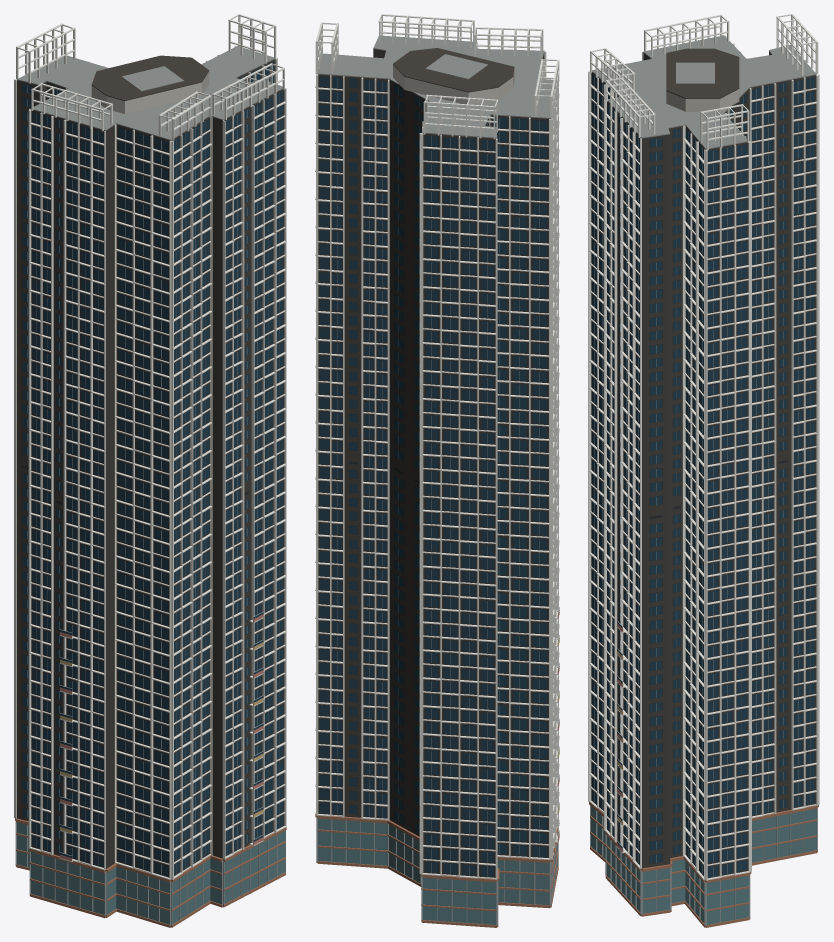
Rendered from bespoke-gratte-ciel-104.glb.
3 views of the same model, side by side, from view 1: azimuth 30°, elevation 25°; view 2: azimuth 150°, elevation 25°; view 3: azimuth 270°, elevation 25° (orthographic).
Visible parts, largest first — view 1: 104_recessed_windows_and_mullions004, 104_projecting_woven_white_frames, 104_individual_stepped_plan, 104_recessed_windows_and_mullions004_1, 104_recessed_windows_and_mullions004_2, 104_simplified_retail_and_lobby004_2, 104_open_lattice_crowns_and_roof_core004_2, 104_open_lattice_crowns_and_roof_core004_1, 104_simplified_retail_and_lobby004_1, 104_open_lattice_crowns_and_roof_core004, 104_simplified_retail_and_lobby004, 104_open_lattice_crowns_and_roof_core004_3; view 2: 104_recessed_windows_and_mullions004, 104_individual_stepped_plan, 104_projecting_woven_white_frames, 104_recessed_windows_and_mullions004_1, 104_simplified_retail_and_lobby004_2, 104_open_lattice_crowns_and_roof_core004_2, 104_recessed_windows_and_mullions004_2, 104_open_lattice_crowns_and_roof_core004_1, 104_simplified_retail_and_lobby004_1, 104_open_lattice_crowns_and_roof_core004, 104_simplified_retail_and_lobby004, 104_open_lattice_crowns_and_roof_core004_3; view 3: 104_recessed_windows_and_mullions004, 104_projecting_woven_white_frames, 104_individual_stepped_plan, 104_recessed_windows_and_mullions004_1, 104_recessed_windows_and_mullions004_2, 104_simplified_retail_and_lobby004_2, 104_open_lattice_crowns_and_roof_core004_2, 104_open_lattice_crowns_and_roof_core004_1, 104_simplified_retail_and_lobby004_1, 104_open_lattice_crowns_and_roof_core004, 104_simplified_retail_and_lobby004, 104_open_lattice_crowns_and_roof_core004_3.
Part boxes in pixels (bbox=[...]): 104_recessed_windows_and_mullions004: bbox=[23, 62, 283, 876]; 104_projecting_woven_white_frames: bbox=[14, 46, 286, 879]; 104_individual_stepped_plan: bbox=[17, 59, 284, 877]; 104_recessed_windows_and_mullions004_1: bbox=[22, 61, 283, 876]; 104_recessed_windows_and_mullions004_2: bbox=[27, 67, 279, 874]; 104_simplified_retail_and_lobby004_2: bbox=[17, 822, 284, 924]; 104_open_lattice_crowns_and_roof_core004_2: bbox=[17, 46, 282, 140]; 104_open_lattice_crowns_and_roof_core004_1: bbox=[16, 14, 284, 140]; 104_simplified_retail_and_lobby004_1: bbox=[15, 818, 286, 927]; 104_open_lattice_crowns_and_roof_core004: bbox=[91, 55, 209, 100]; 104_simplified_retail_and_lobby004: bbox=[15, 822, 285, 925]; 104_open_lattice_crowns_and_roof_core004_3: bbox=[91, 71, 209, 113]; 104_recessed_windows_and_mullions004: bbox=[319, 56, 551, 876]; 104_individual_stepped_plan: bbox=[318, 49, 550, 877]; 104_projecting_woven_white_frames: bbox=[315, 36, 559, 880]; 104_recessed_windows_and_mullions004_1: bbox=[319, 55, 547, 876]; 104_simplified_retail_and_lobby004_2: bbox=[318, 818, 557, 924]; 104_open_lattice_crowns_and_roof_core004_2: bbox=[317, 35, 553, 138]; 104_recessed_windows_and_mullions004_2: bbox=[337, 58, 550, 875]; 104_open_lattice_crowns_and_roof_core004_1: bbox=[315, 14, 559, 139]; 104_simplified_retail_and_lobby004_1: bbox=[315, 814, 559, 927]; 104_open_lattice_crowns_and_roof_core004: bbox=[393, 48, 514, 92]; 104_simplified_retail_and_lobby004: bbox=[316, 817, 558, 925]; 104_open_lattice_crowns_and_roof_core004_3: bbox=[393, 65, 514, 104]; 104_recessed_windows_and_mullions004: bbox=[592, 75, 814, 877]; 104_projecting_woven_white_frames: bbox=[588, 35, 819, 880]; 104_individual_stepped_plan: bbox=[591, 51, 815, 926]; 104_recessed_windows_and_mullions004_1: bbox=[592, 74, 815, 877]; 104_recessed_windows_and_mullions004_2: bbox=[594, 77, 810, 876]; 104_simplified_retail_and_lobby004_2: bbox=[591, 806, 816, 924]; 104_open_lattice_crowns_and_roof_core004_2: bbox=[592, 35, 816, 149]; 104_open_lattice_crowns_and_roof_core004_1: bbox=[590, 14, 818, 150]; 104_simplified_retail_and_lobby004_1: bbox=[589, 802, 818, 927]; 104_open_lattice_crowns_and_roof_core004: bbox=[666, 48, 739, 98]; 104_simplified_retail_and_lobby004: bbox=[590, 805, 817, 925]; 104_open_lattice_crowns_and_roof_core004_3: bbox=[666, 89, 739, 111].
Bounding box in the file's own units: 56.3 × 183 × 47.38.
